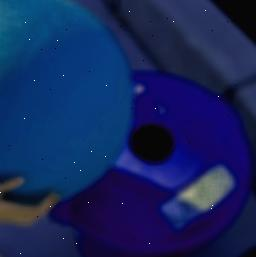algae: (0, 0, 130, 199)
